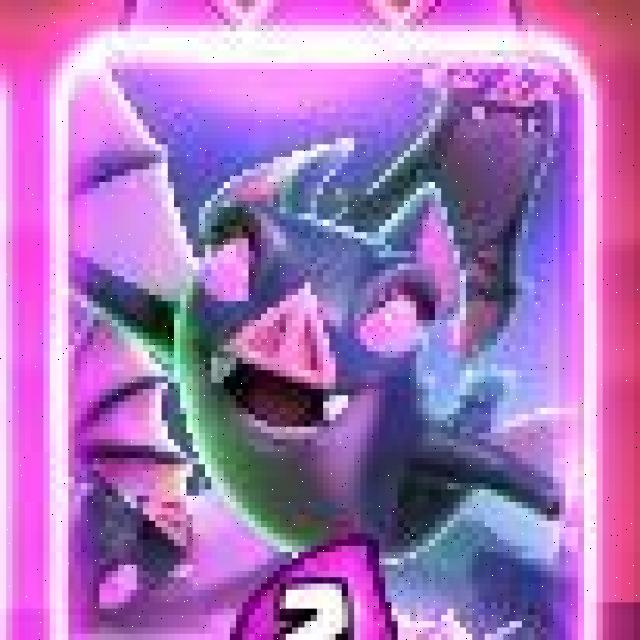Evolved_Bats: (42, 22, 607, 640)
